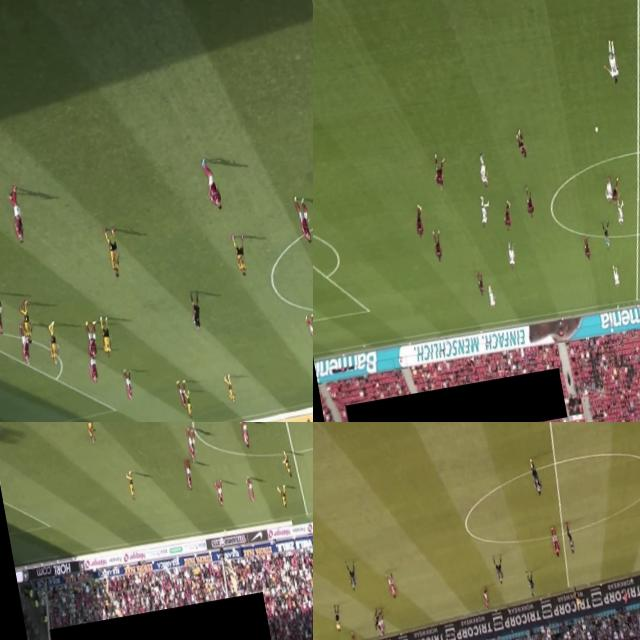ball: (592, 122, 600, 134)
player: (198, 156, 224, 212), (6, 186, 30, 246), (103, 227, 125, 284), (293, 196, 313, 247), (602, 42, 622, 84), (231, 236, 250, 278), (526, 455, 545, 497), (18, 300, 34, 348), (96, 315, 113, 360), (45, 321, 61, 368), (430, 151, 447, 192), (84, 321, 100, 364), (86, 342, 101, 386), (183, 424, 199, 463), (17, 325, 31, 368), (412, 201, 426, 242), (121, 368, 137, 403), (344, 560, 360, 594), (522, 182, 536, 220), (601, 171, 615, 206), (514, 126, 528, 160), (478, 198, 492, 230), (549, 524, 562, 558), (504, 239, 518, 270), (224, 374, 238, 404), (182, 458, 194, 493), (384, 570, 398, 600), (477, 150, 488, 188), (501, 200, 514, 232), (525, 570, 538, 602), (183, 392, 197, 421), (564, 522, 576, 555), (238, 422, 252, 450), (492, 558, 506, 586), (614, 198, 627, 227), (609, 175, 622, 204), (177, 378, 188, 412), (125, 469, 136, 503), (580, 234, 592, 264), (432, 226, 442, 262), (82, 422, 98, 444), (214, 478, 226, 507), (479, 586, 492, 612), (244, 474, 256, 501), (375, 612, 387, 638), (0, 289, 6, 338), (306, 312, 313, 351), (282, 452, 292, 479), (486, 284, 496, 310), (474, 270, 484, 295), (278, 485, 288, 510), (611, 264, 620, 290), (372, 610, 382, 632), (348, 630, 358, 640)
